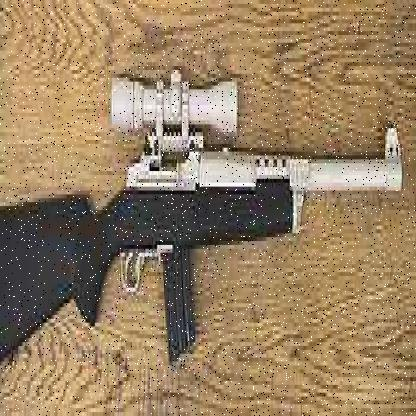rifle: (0, 47, 411, 389)
